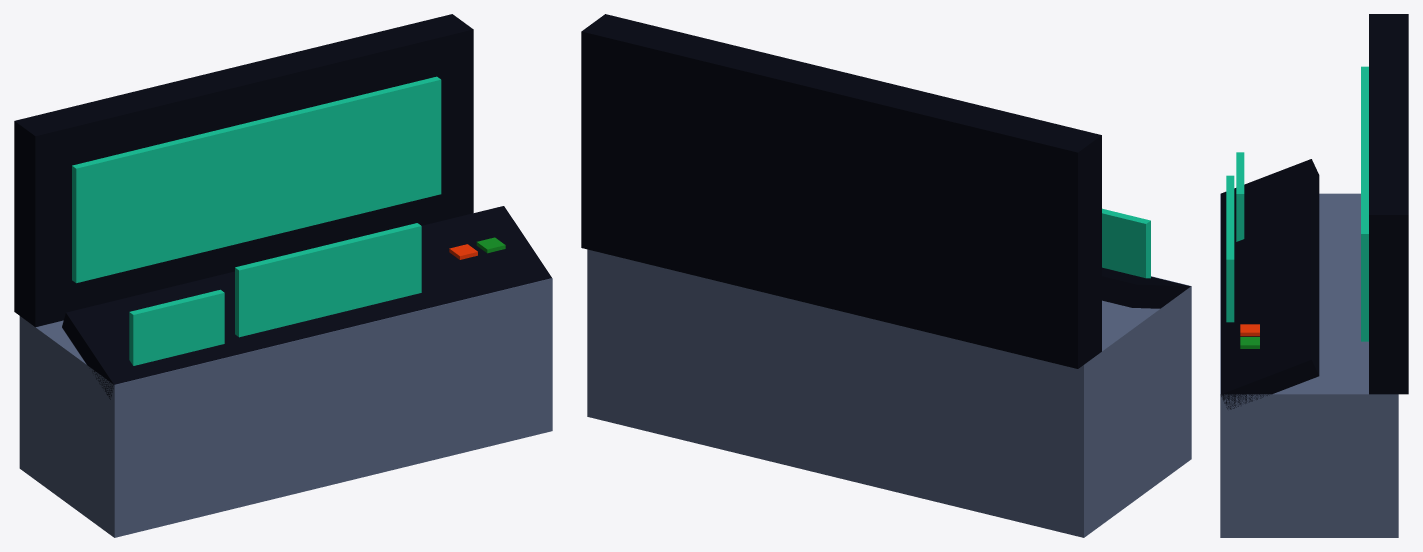
File: control_console.obj
The picture shows the model from 3 angles, left to right: view 1: azimuth 30°, elevation 25°; view 2: azimuth 150°, elevation 25°; view 3: azimuth 270°, elevation 25°; orthographic projection. The views are drawn at different scales.
Parts seen in each view (by area): view 1: control_console; view 2: control_console; view 3: control_console.
Part boxes in pixels (x1,y1,x2,y2): control_console: (14, 14, 552, 537); control_console: (581, 14, 1191, 537); control_console: (1220, 14, 1408, 537).
Bounding box in the file's own units: 2.4 × 1.8 × 0.95.
